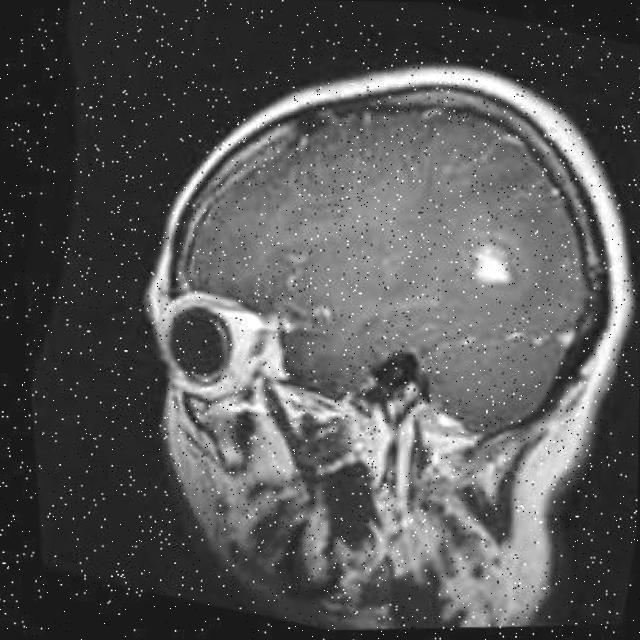MCI: (432, 214, 544, 342)
